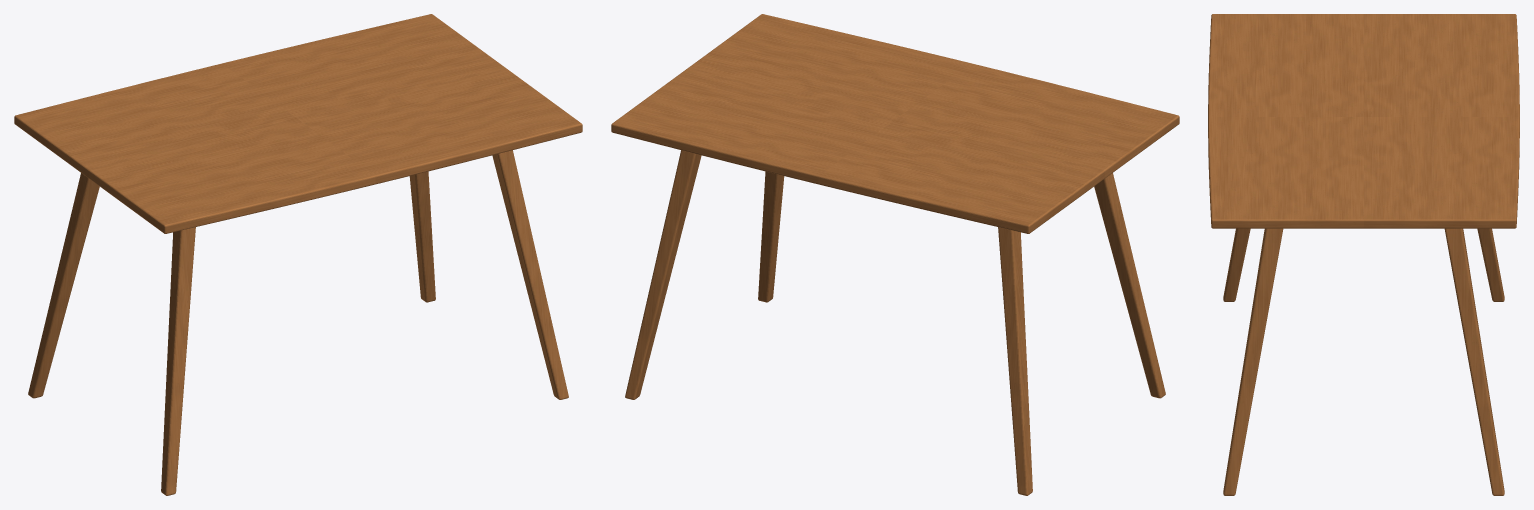
Rendered from table_fore_1200.glb.
3 renders of one model, left to right at view 1: azimuth 30°, elevation 25°; view 2: azimuth 150°, elevation 25°; view 3: azimuth 270°, elevation 25°, orthographic.
Parts seen in each view (by area): view 1: table_fore_1200; view 2: table_fore_1200; view 3: table_fore_1200.
Boxes of the visible parts, bbox=[...] form: table_fore_1200: bbox=[14, 14, 582, 495]; table_fore_1200: bbox=[611, 14, 1179, 495]; table_fore_1200: bbox=[1208, 14, 1519, 495].
Bounding box in the file's own units: 1.2 × 0.76 × 0.766.
1 material, 1 textured.
